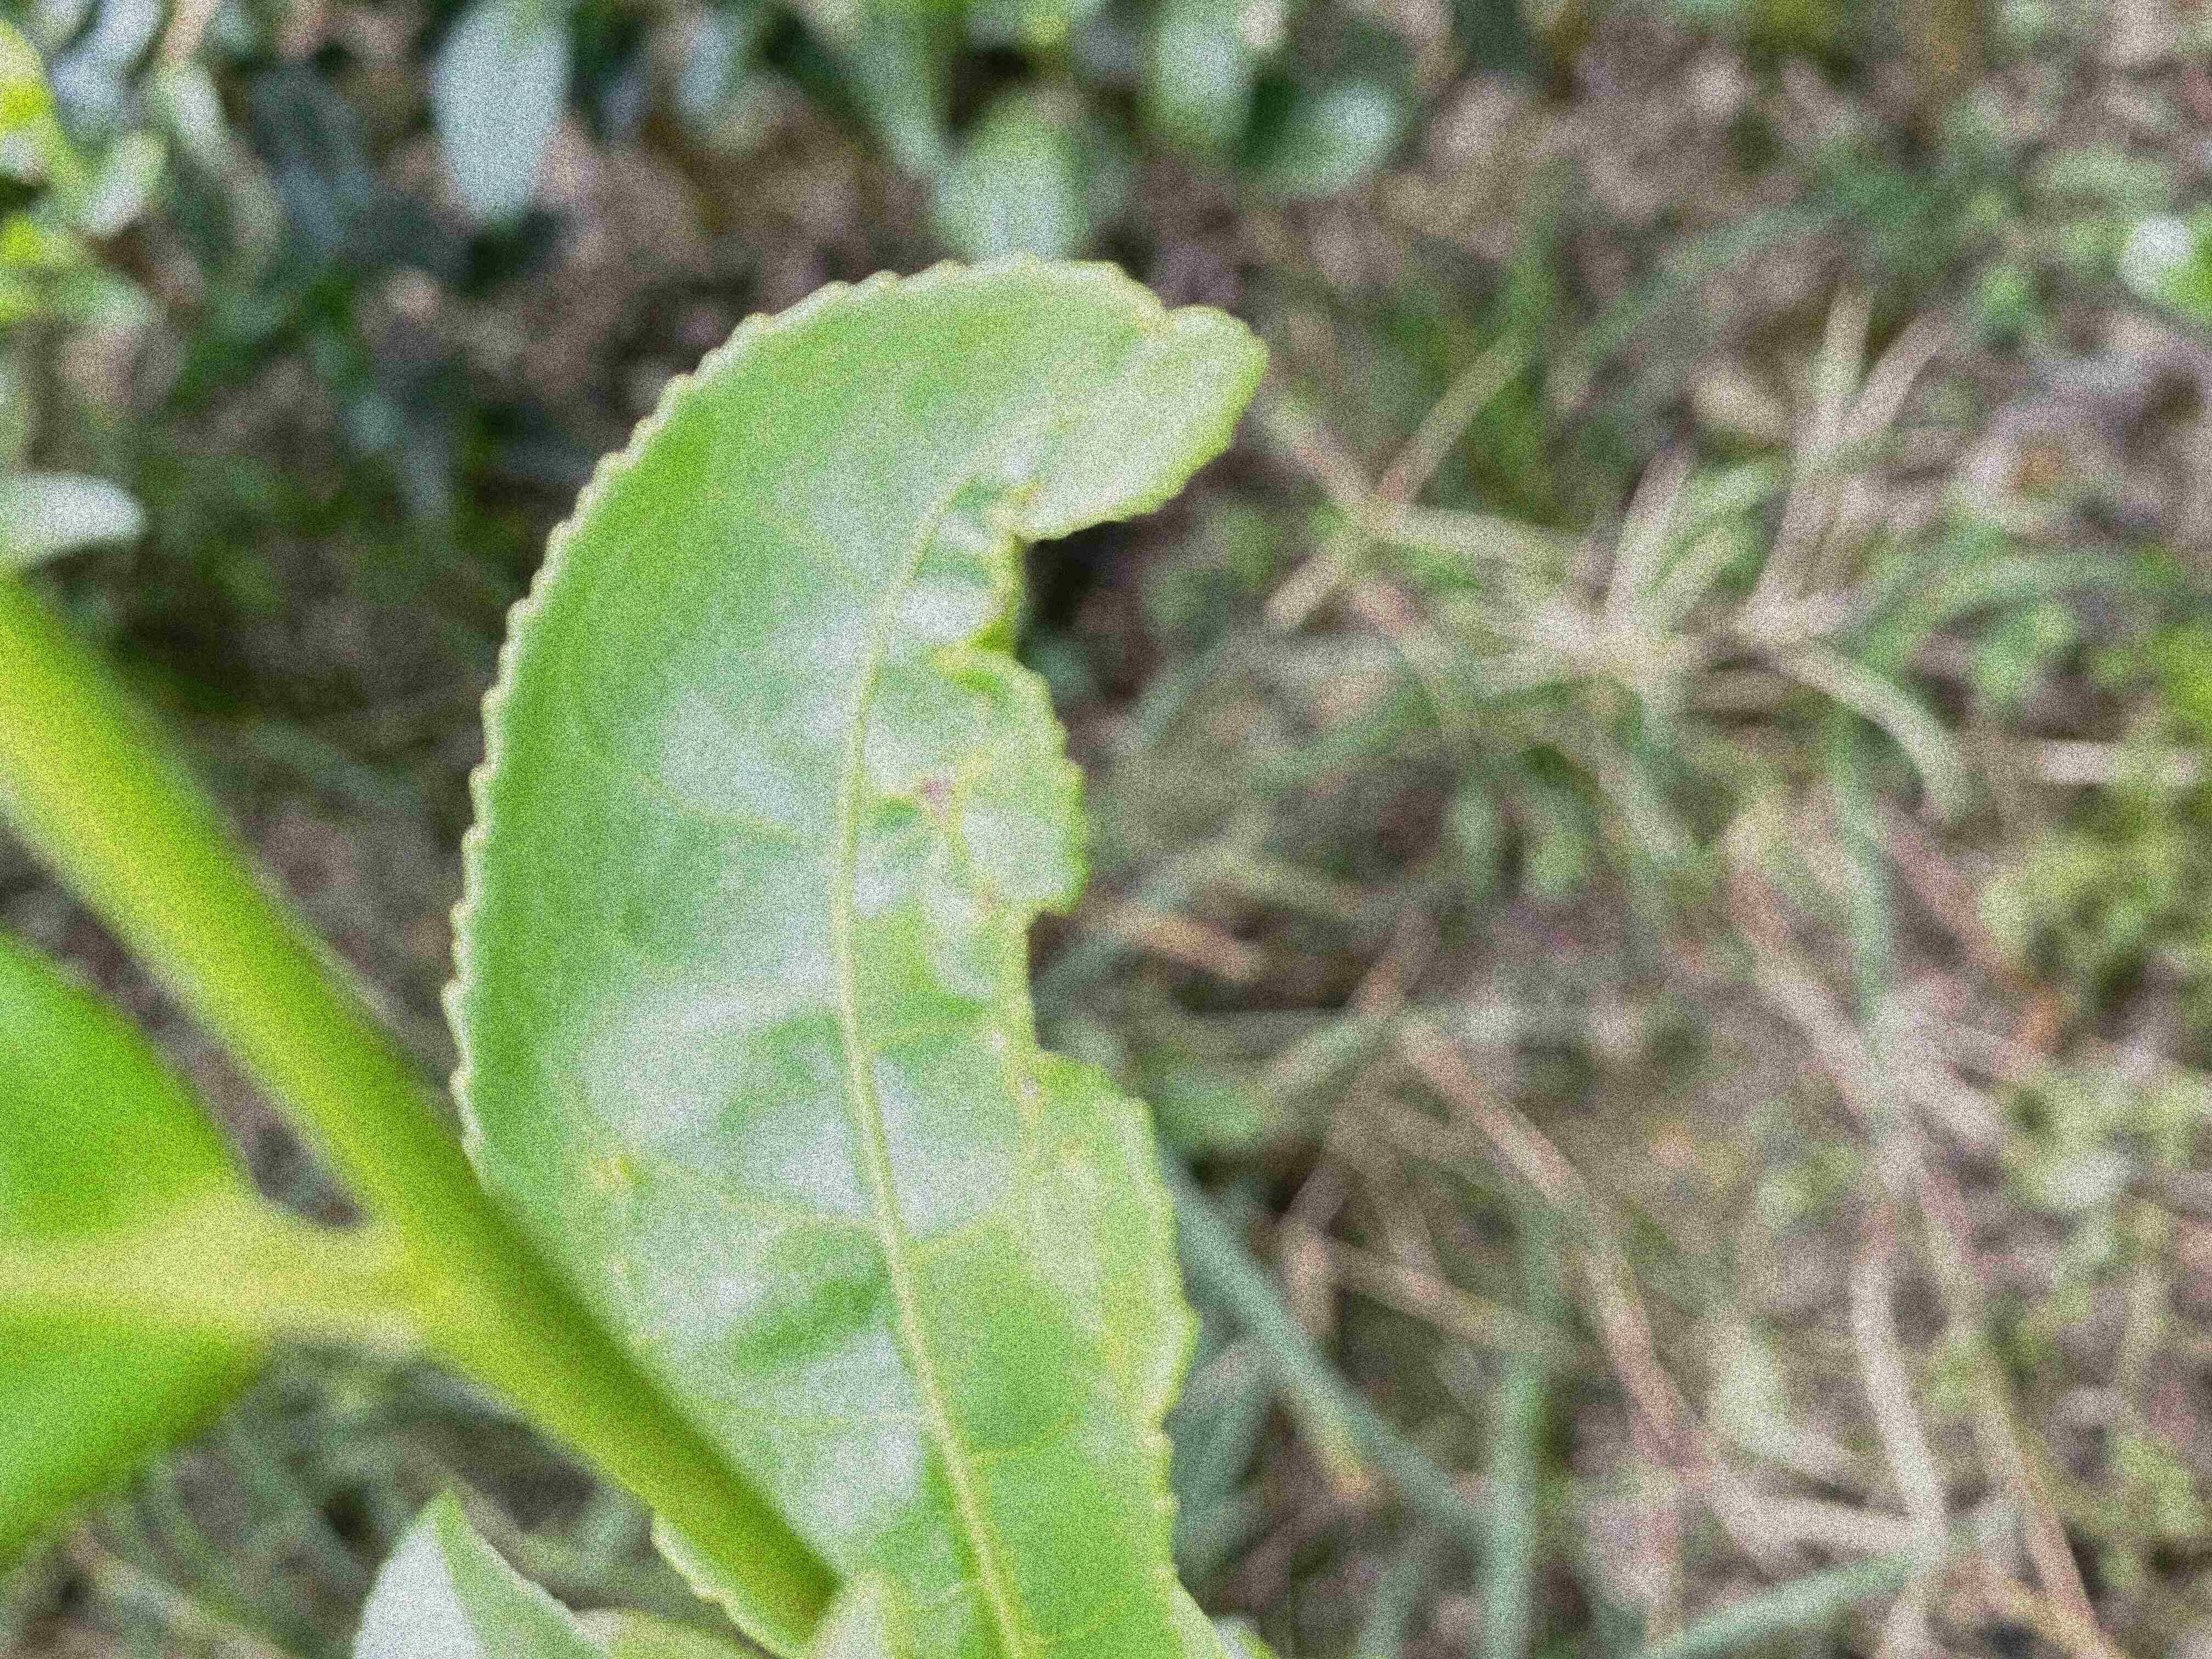chihuo_high: (444, 251, 1270, 1656)
